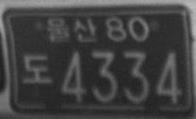0: (128, 15, 149, 42)
3: (90, 50, 117, 104), (122, 50, 148, 103)
4: (155, 51, 183, 105), (59, 51, 87, 103)
8: (104, 15, 127, 42)
도: (21, 53, 51, 85)
울산_O: (46, 16, 98, 43)
